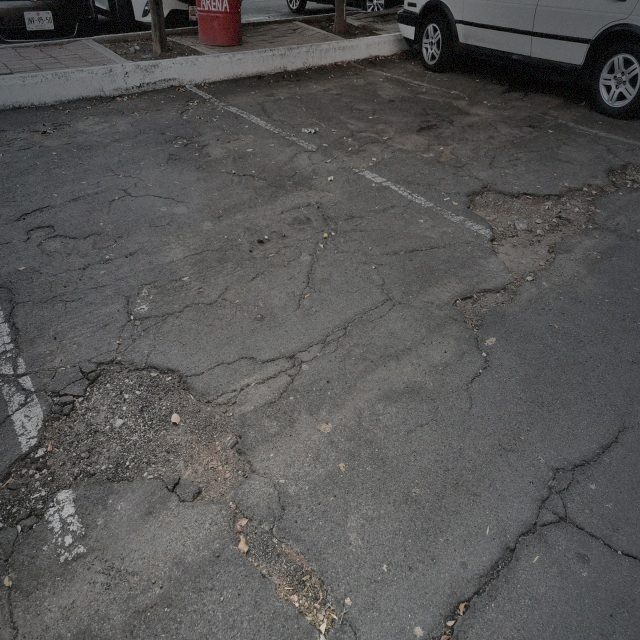pothole: (7, 344, 269, 540), (469, 176, 610, 294), (224, 507, 339, 635), (455, 278, 518, 335), (604, 161, 638, 197)
